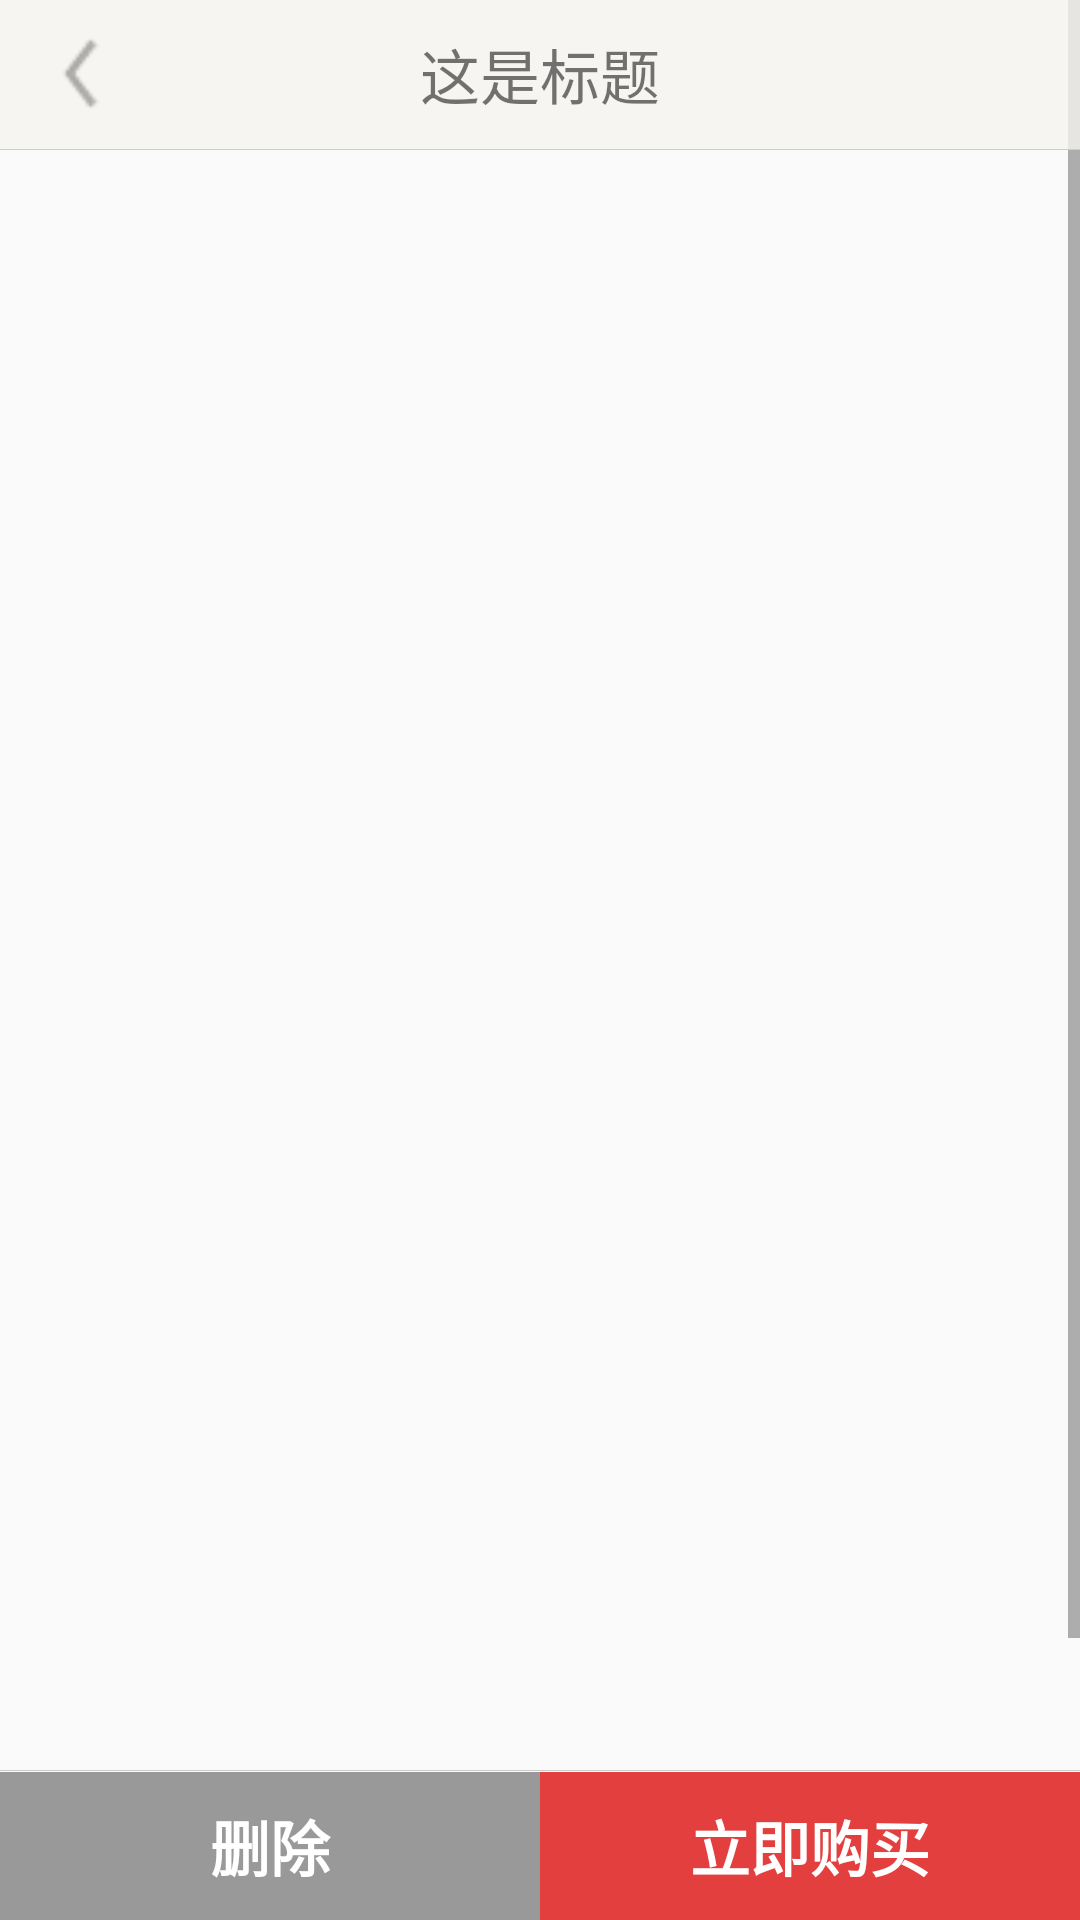

Screen size 1080*1920. Icon name, then its box in pixels as region(x1, y1, x2, y2):
backbtn: region(65, 40, 97, 107)
